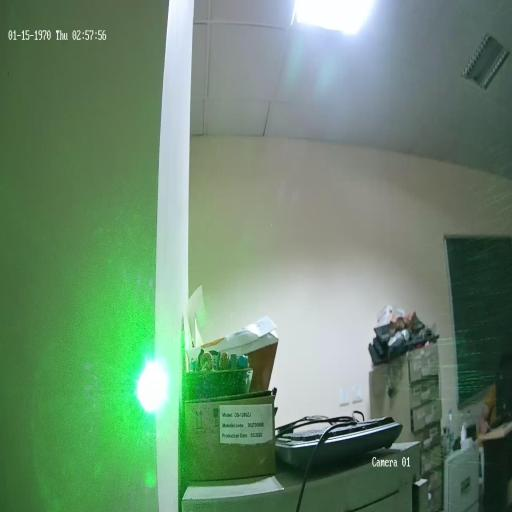laser: (128, 320, 176, 434)
